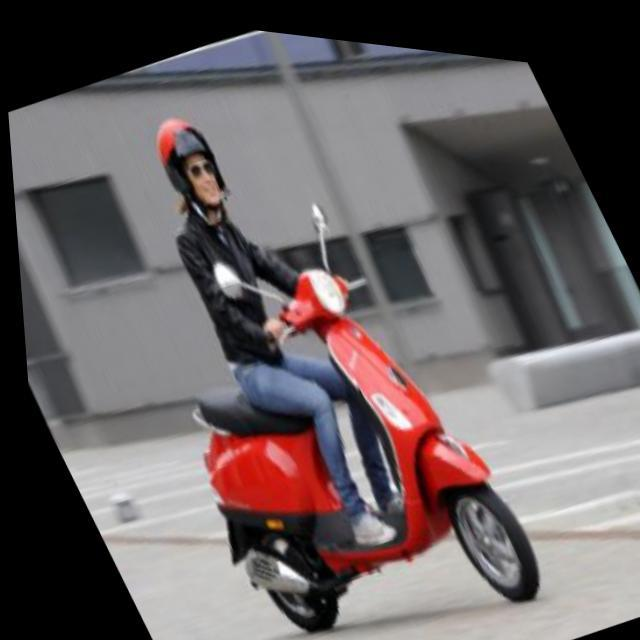Helmet: (150, 101, 240, 222)
